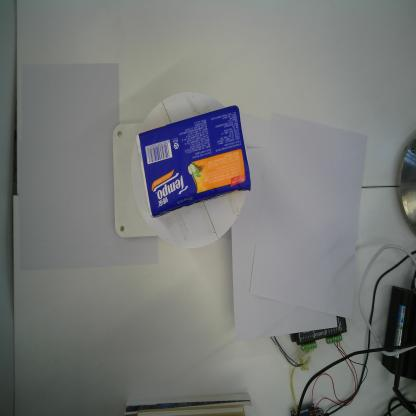Tissue: (134, 101, 254, 221)
